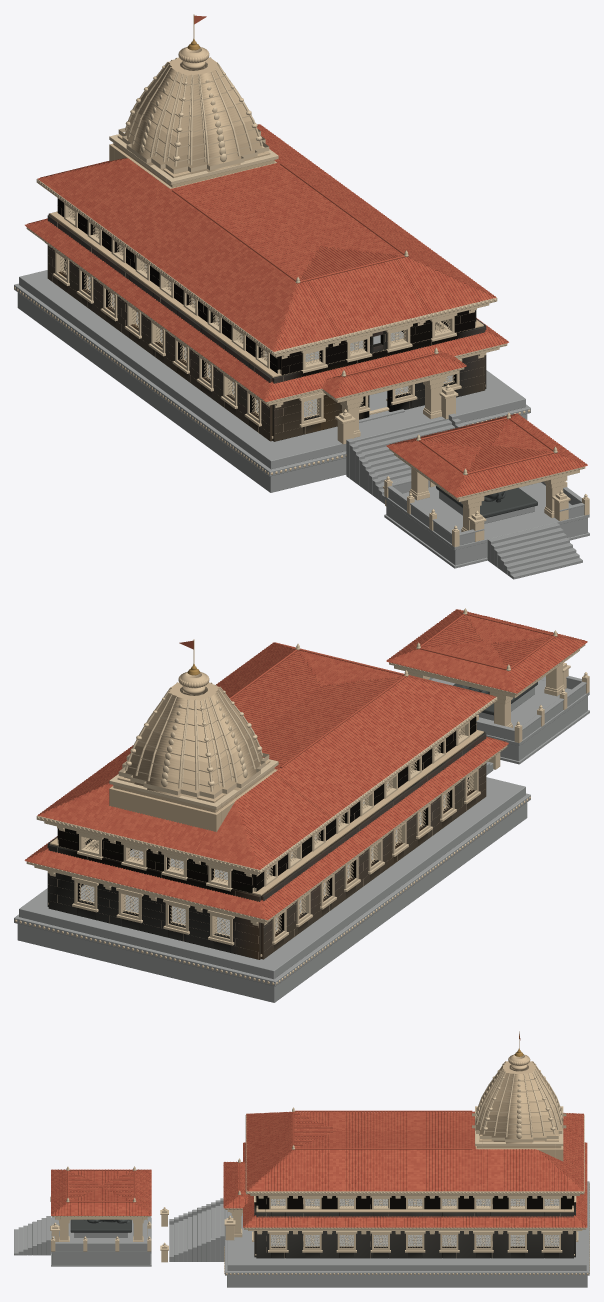
The model's file is exterior.glb.
3 views of the same model, one above another, from view 1: azimuth 30°, elevation 25°; view 2: azimuth 150°, elevation 25°; view 3: azimuth 270°, elevation 25° (orthographic). The views are drawn at different scales.
Parts seen in each view (by area): view 1: exterior • PBR, exterior • baked irradiance; view 2: exterior • PBR, exterior • baked irradiance, Jali window 24 • same opening inside and out, Jali window 22 • same opening inside and out, Jali window 23 • same opening inside and out, Jali window 25 • same opening inside and out, Jali window 51 • same opening inside and out, Jali window 52 • same opening inside and out, Jali window 49 • same opening inside and out, Jali window 50 • same opening inside and out; view 3: exterior • PBR, exterior • baked irradiance, Jali window 14 • same opening inside and out, Jali window 15 • same opening inside and out, Jali window 10 • same opening inside and out, Jali window 11 • same opening inside and out, Jali window 09 • same opening inside and out, Jali window 13 • same opening inside and out, Jali window 16 • same opening inside and out, Jali window 17 • same opening inside and out, Jali window 12 • same opening inside and out.
Boxes of the visible parts, <box> form: exterior • PBR: <box>14,14,589,579</box>; exterior • baked irradiance: <box>47,198,486,441</box>; exterior • PBR: <box>14,608,589,1002</box>; exterior • baked irradiance: <box>47,716,486,959</box>; Jali window 24 • same opening inside and out: <box>116,888,143,923</box>; Jali window 22 • same opening inside and out: <box>207,910,234,945</box>; Jali window 23 • same opening inside and out: <box>163,899,190,934</box>; Jali window 25 • same opening inside and out: <box>71,877,98,912</box>; Jali window 51 • same opening inside and out: <box>121,842,148,870</box>; Jali window 52 • same opening inside and out: <box>76,831,103,859</box>; Jali window 49 • same opening inside and out: <box>205,863,232,891</box>; Jali window 50 • same opening inside and out: <box>161,852,188,880</box>; exterior • PBR: <box>14,1031,589,1287</box>; exterior • baked irradiance: <box>254,1196,575,1258</box>; Jali window 14 • same opening inside and out: <box>438,1231,459,1252</box>; Jali window 15 • same opening inside and out: <box>473,1231,494,1252</box>; Jali window 10 • same opening inside and out: <box>302,1231,322,1252</box>; Jali window 11 • same opening inside and out: <box>336,1231,357,1252</box>; Jali window 09 • same opening inside and out: <box>267,1231,288,1252</box>; Jali window 13 • same opening inside and out: <box>404,1231,425,1252</box>; Jali window 16 • same opening inside and out: <box>507,1231,528,1252</box>; Jali window 17 • same opening inside and out: <box>541,1231,562,1252</box>; Jali window 12 • same opening inside and out: <box>370,1231,391,1252</box>.
Size of the model in its own units: 15.92 by 17.2 by 42.36.
